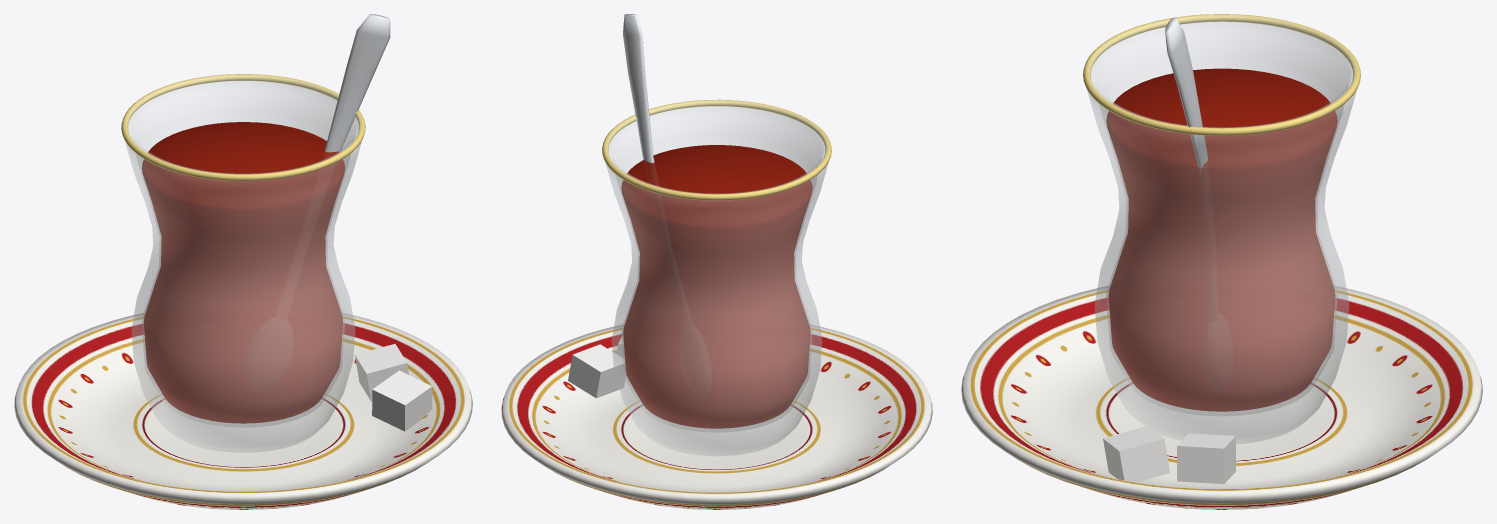
The model's file is turkish_tea.glb.
The picture shows the model from 3 angles, left to right: view 1: azimuth 30°, elevation 25°; view 2: azimuth 150°, elevation 25°; view 3: azimuth 270°, elevation 25°; orthographic projection. The views are drawn at different scales.
Parts seen in each view (by area): view 1: TeaGlass, TeaLiquid, Saucer, SugarCubes, GoldRim, TeaSpoon; view 2: TeaGlass, TeaLiquid, Saucer, GoldRim, SugarCubes, TeaSpoon; view 3: TeaGlass, TeaLiquid, Saucer, SugarCubes, GoldRim, TeaSpoon.
Part boxes in pixels (x1,y1,x2,y2): TeaGlass: (125,74,361,452); TeaLiquid: (142,122,344,423); Saucer: (14,313,472,509); SugarCubes: (355,343,432,431); GoldRim: (121,74,365,180); TeaSpoon: (324,14,390,152); TeaGlass: (606,100,827,456); TeaLiquid: (621,145,812,428); Saucer: (501,324,932,509); GoldRim: (602,99,831,200); SugarCubes: (568,335,625,398); TeaSpoon: (623,14,654,162); TeaGlass: (1087,14,1356,444); TeaLiquid: (1106,68,1337,411); Saucer: (961,286,1482,509); SugarCubes: (1103,426,1235,483); GoldRim: (1083,14,1360,135); TeaSpoon: (1165,17,1207,175).
Size of the model in its own units: 0.1344 by 0.1397 by 0.1344.
6 materials, 1 textured.
